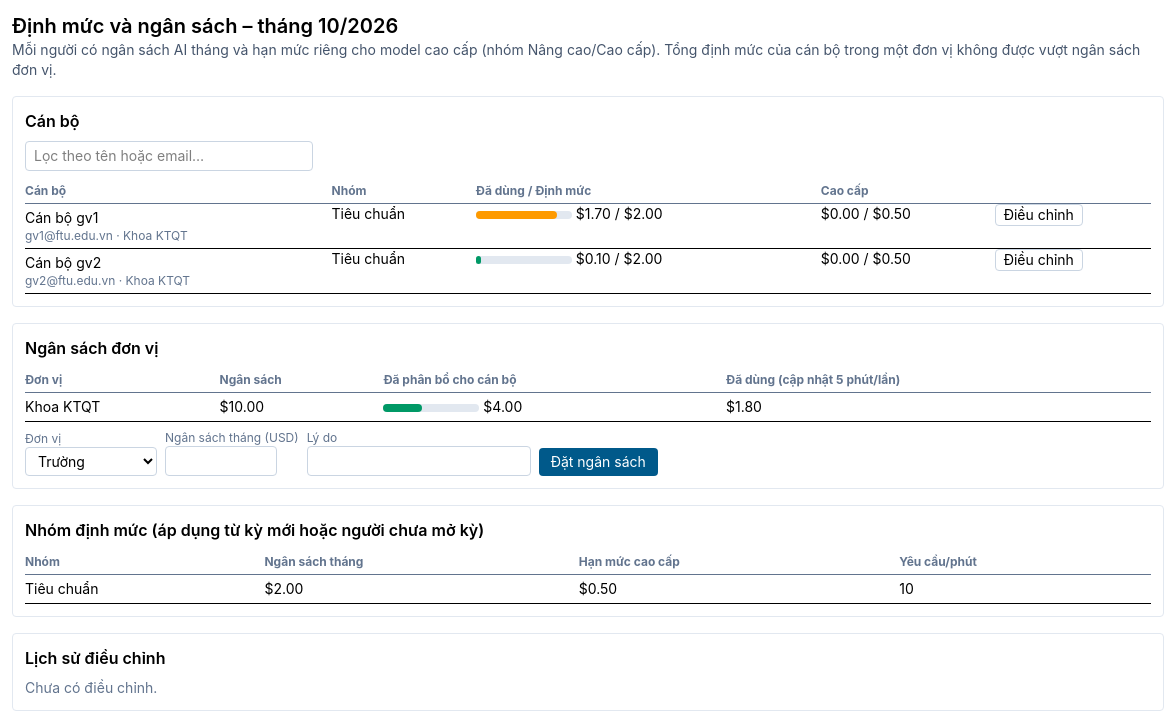
Scenario: QuotaPage › adjusts a quota with reason and approver, in micro-USD
Click the button with aria-label "Điều chỉnh Cán bộ gv1" at [1039, 215], box [995,204,1083,226]
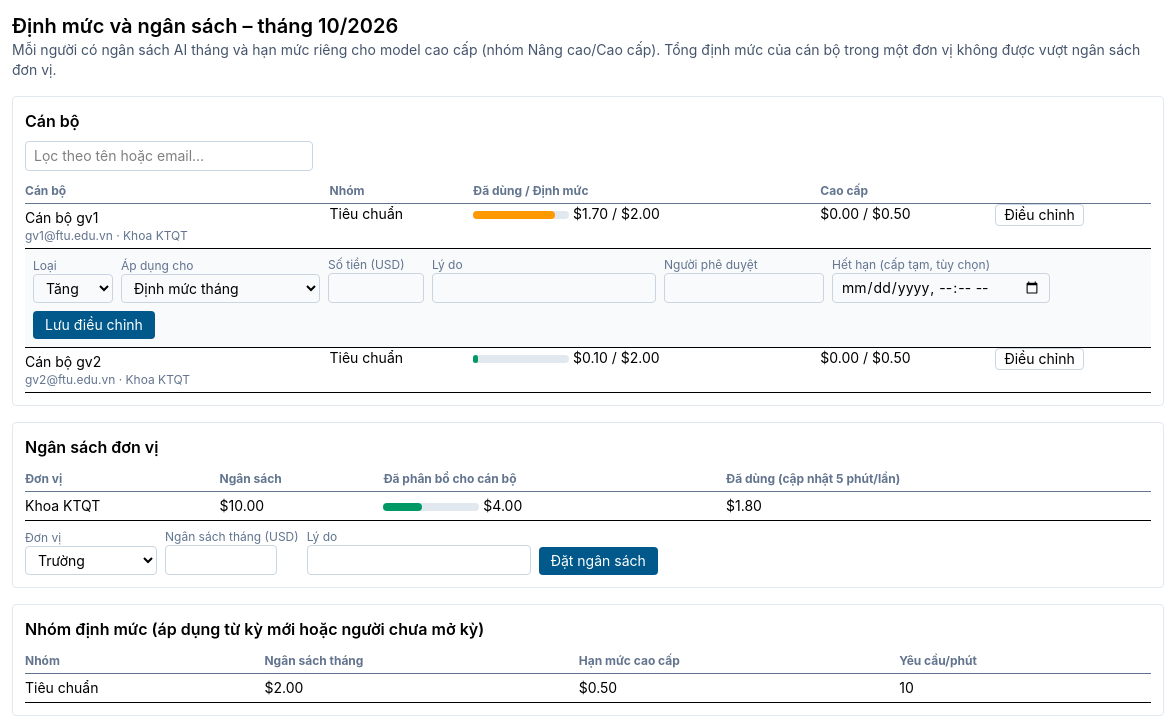
Type "1,5" into the field labelled "Số tiền (USD)" at [376, 288], box [328,273,424,303]
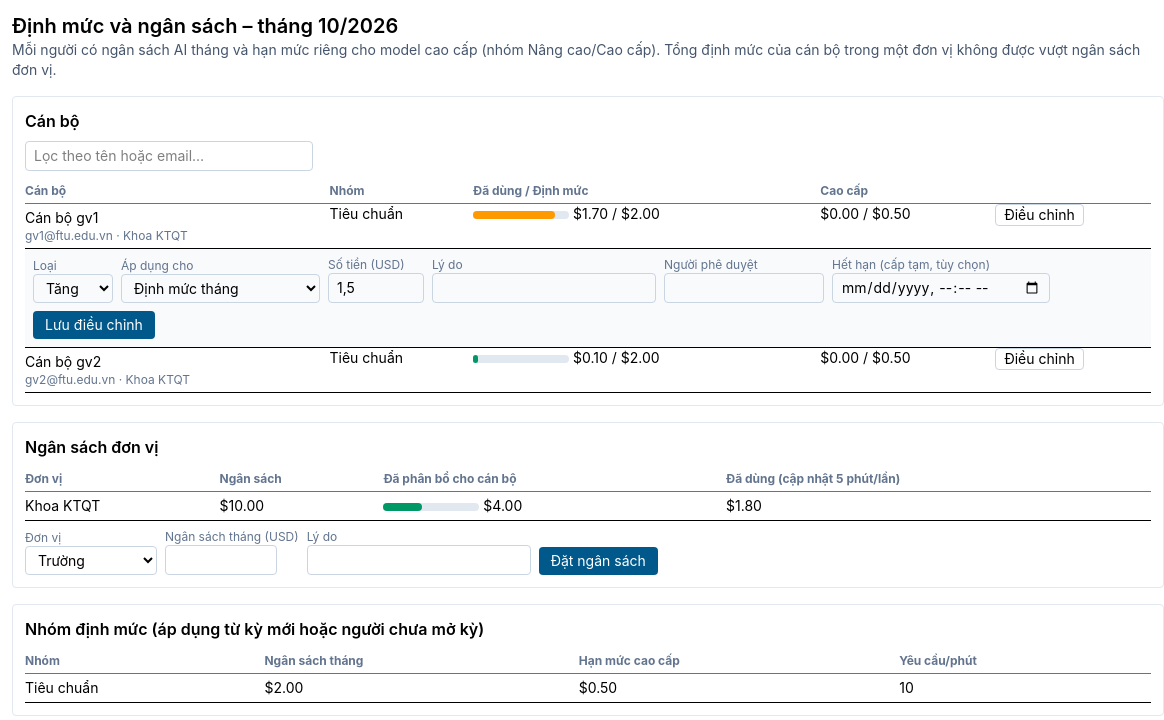
Type "Đề tài NCKH cấp trường" into the field labelled "Lý do" below "Áp dụng cho" at [544, 288], box [432,273,656,303]
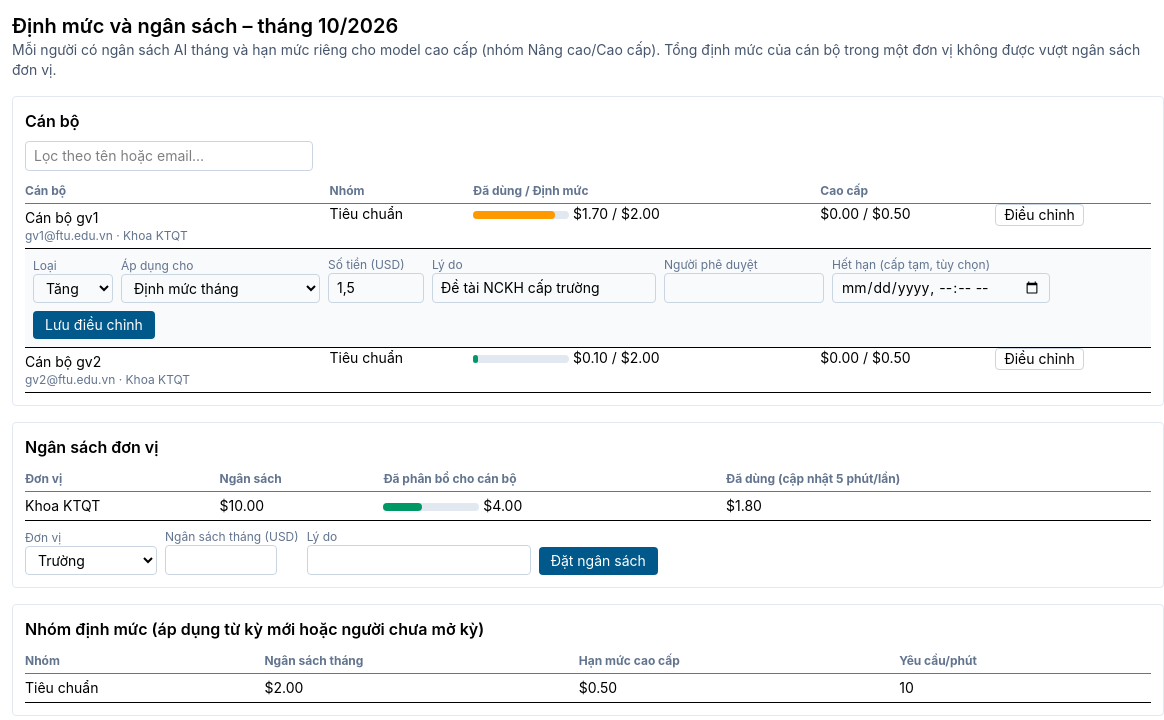
Type "Trưởng khoa" into the field labelled "Người phê duyệt" at [744, 288], box [664,273,824,303]
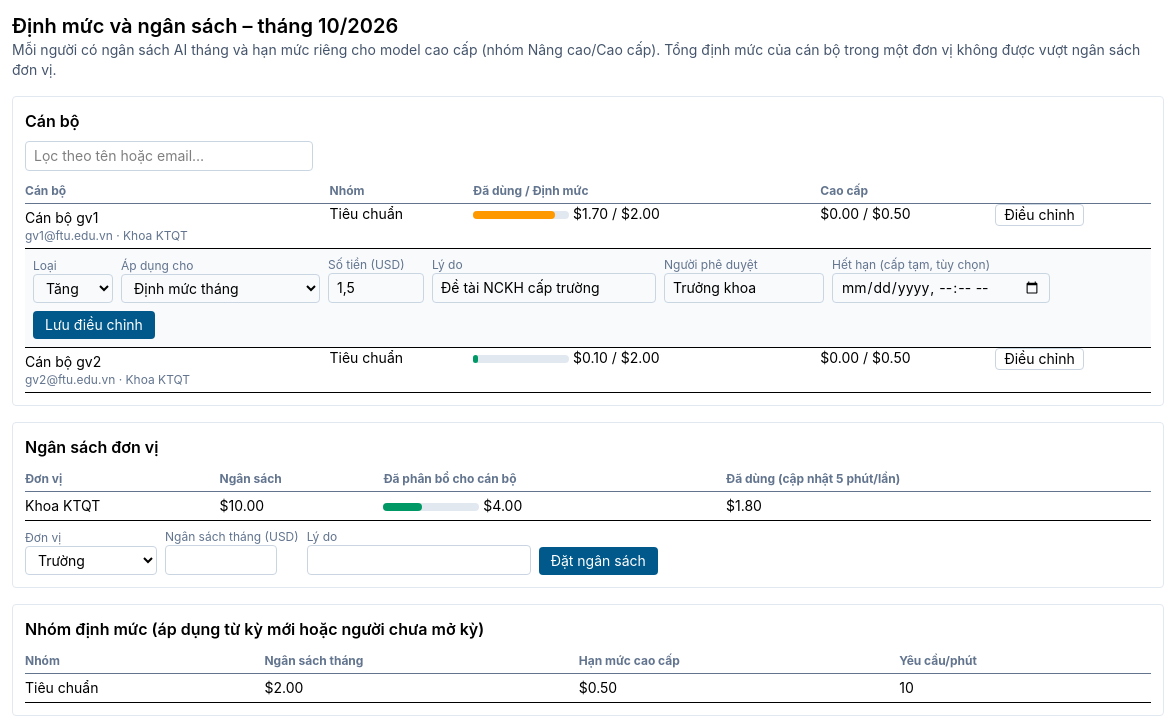
Click the button "Lưu điều chỉnh" at [94, 325], box [33,311,155,339]
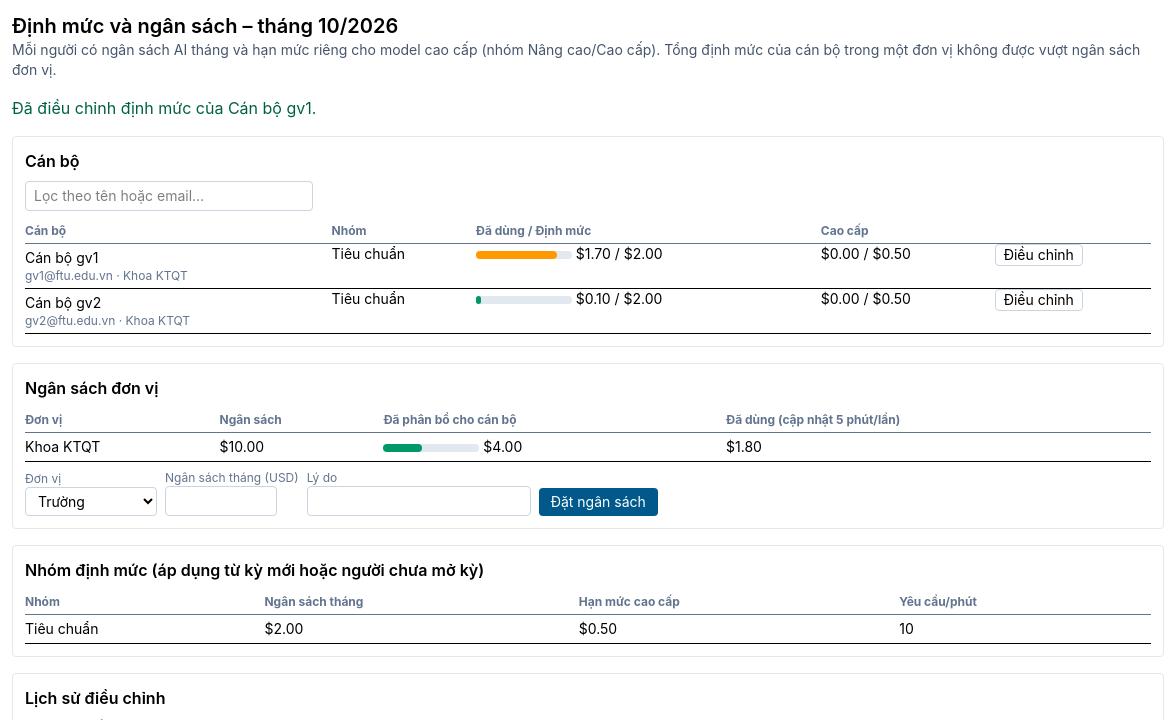
expect the message shows "Đã điều chỉnh": met, box [12,98,316,118]
